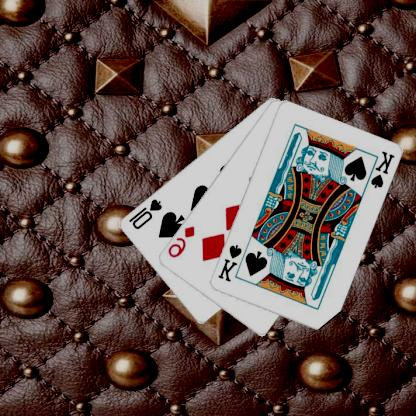10S: (127, 196, 165, 231)
9D: (166, 224, 198, 260)
KS: (364, 148, 398, 190), (217, 242, 245, 283)
